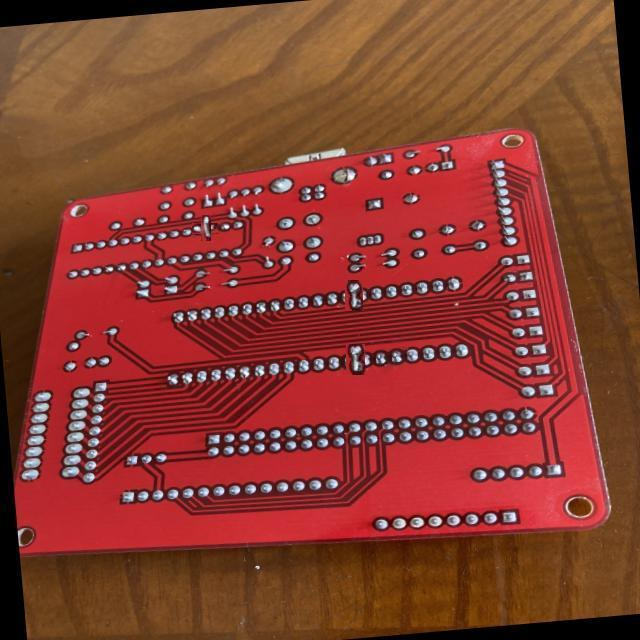damged: (343, 347, 368, 372), (342, 283, 366, 308), (196, 219, 215, 238)
